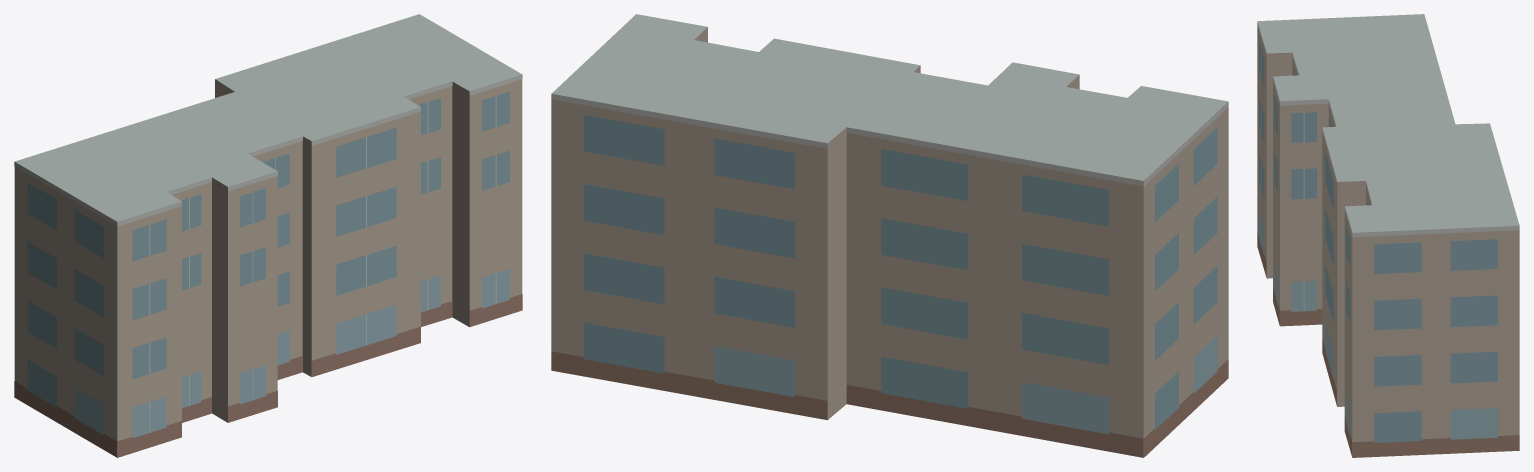
Rendered from survey-upis-32638782.glb.
3 views of the same model, side by side, from view 1: azimuth 30°, elevation 25°; view 2: azimuth 150°, elevation 25°; view 3: azimuth 270°, elevation 25° (orthographic). The views are drawn at different scales.
Parts seen in each view (by area): view 1: survey-upis-32638782.tmp; view 2: survey-upis-32638782.tmp; view 3: survey-upis-32638782.tmp.
Part boxes in pixels (x1,y1,x2,y2): survey-upis-32638782.tmp: (14,14,522,457); survey-upis-32638782.tmp: (551,14,1228,457); survey-upis-32638782.tmp: (1257,14,1519,457).
Size of the model in its own units: 25.66 by 12.3 by 13.01.
